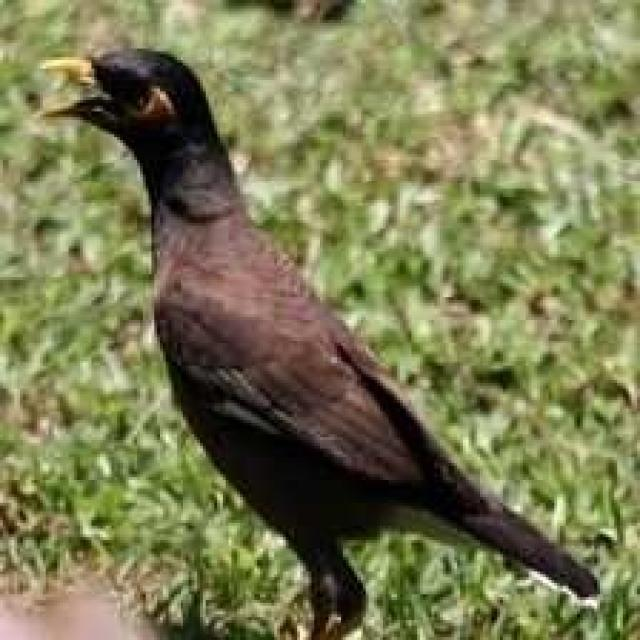bird: (38, 40, 620, 640)
